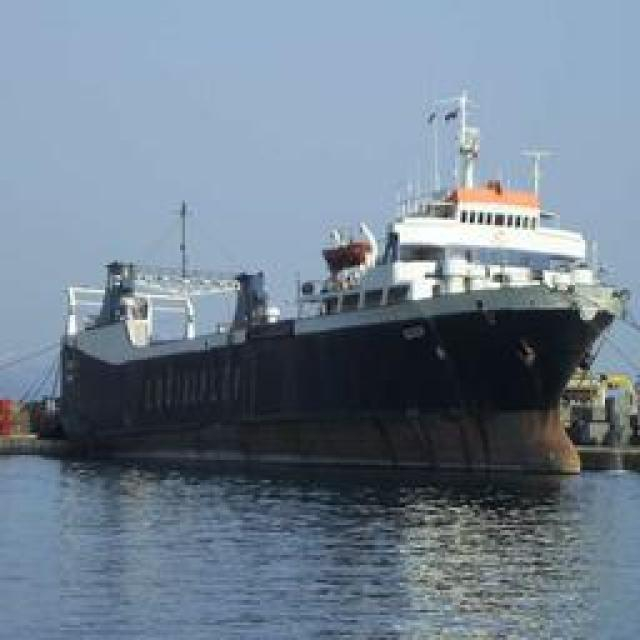CIV_Ship: (48, 72, 610, 470)
